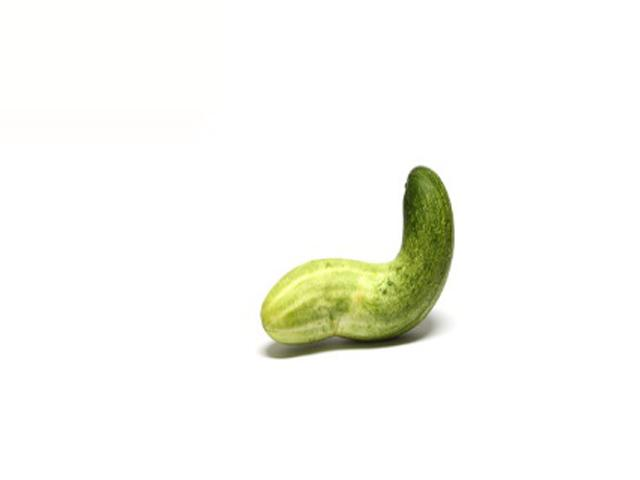cucumber: (260, 166, 455, 346)
